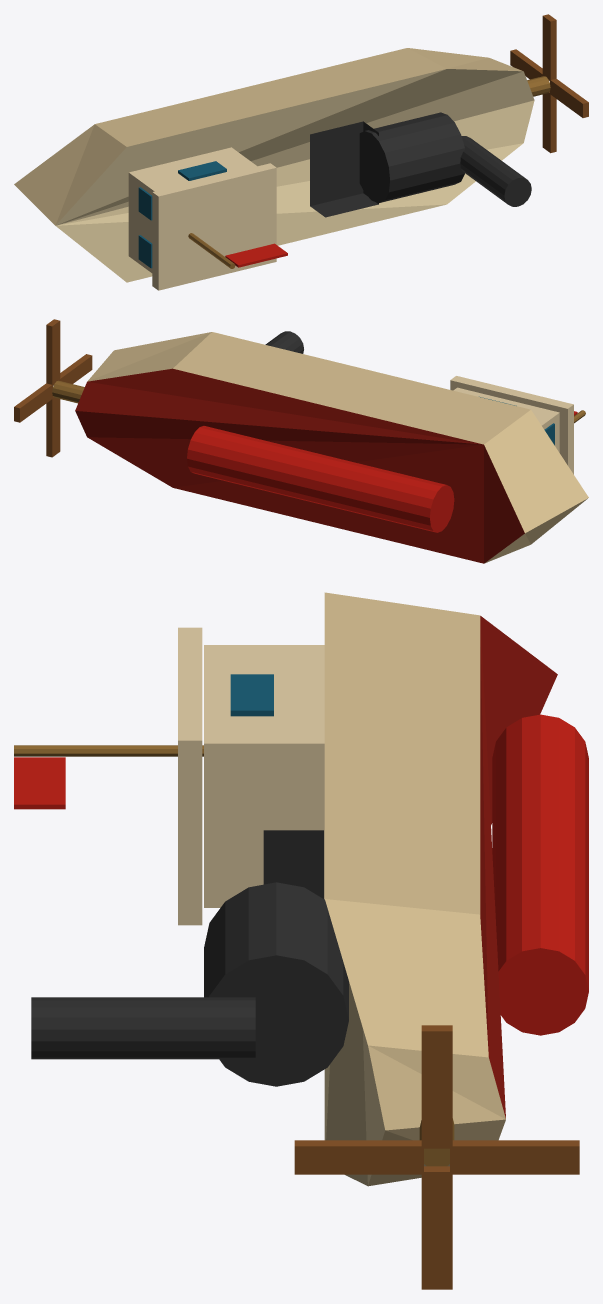
Rendered from wild_wind_simple_boat_ship.obj.
3 views of the same model, one above another, from view 1: azimuth 30°, elevation 25°; view 2: azimuth 150°, elevation 25°; view 3: azimuth 270°, elevation 25° (orthographic). The views are drawn at different scales.
Parts seen in each view (by area): view 1: WildWind_Simple_Boat_Ship; view 2: WildWind_Simple_Boat_Ship; view 3: WildWind_Simple_Boat_Ship.
Part boxes in pixels (bbox=[...]): WildWind_Simple_Boat_Ship: bbox=[14, 14, 588, 290]; WildWind_Simple_Boat_Ship: bbox=[14, 319, 588, 563]; WildWind_Simple_Boat_Ship: bbox=[14, 592, 588, 1289].
Size of the model in its own units: 6.81 by 1.7 by 3.33.
